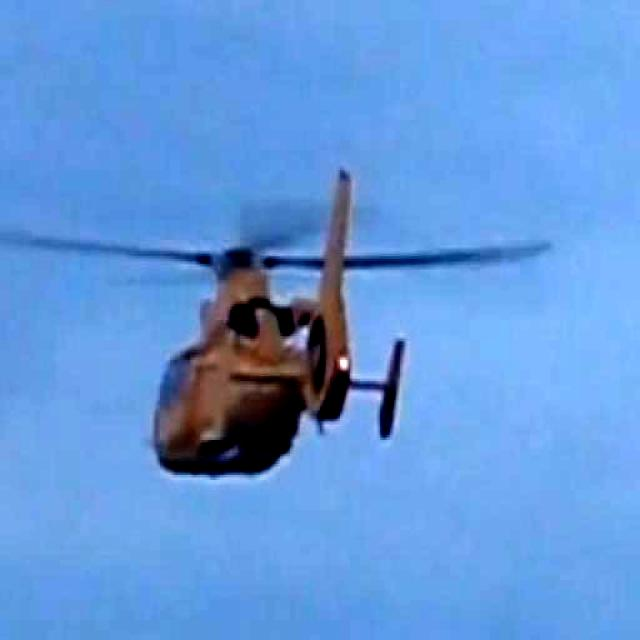drone: (0, 149, 548, 500)
